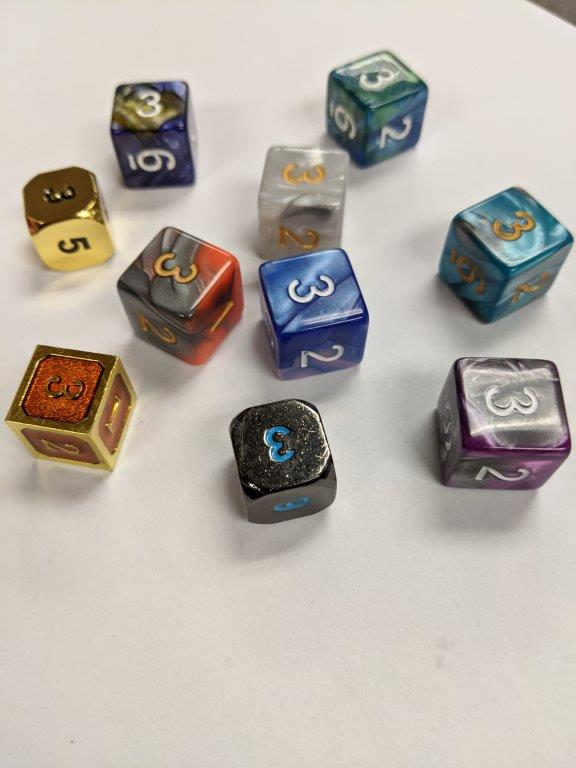d6-3: (431, 354, 570, 497), (439, 187, 573, 328), (5, 340, 136, 476), (120, 226, 243, 369), (261, 247, 368, 377), (232, 396, 338, 527), (329, 52, 428, 165), (22, 165, 113, 277), (110, 81, 200, 190), (257, 146, 347, 249)
